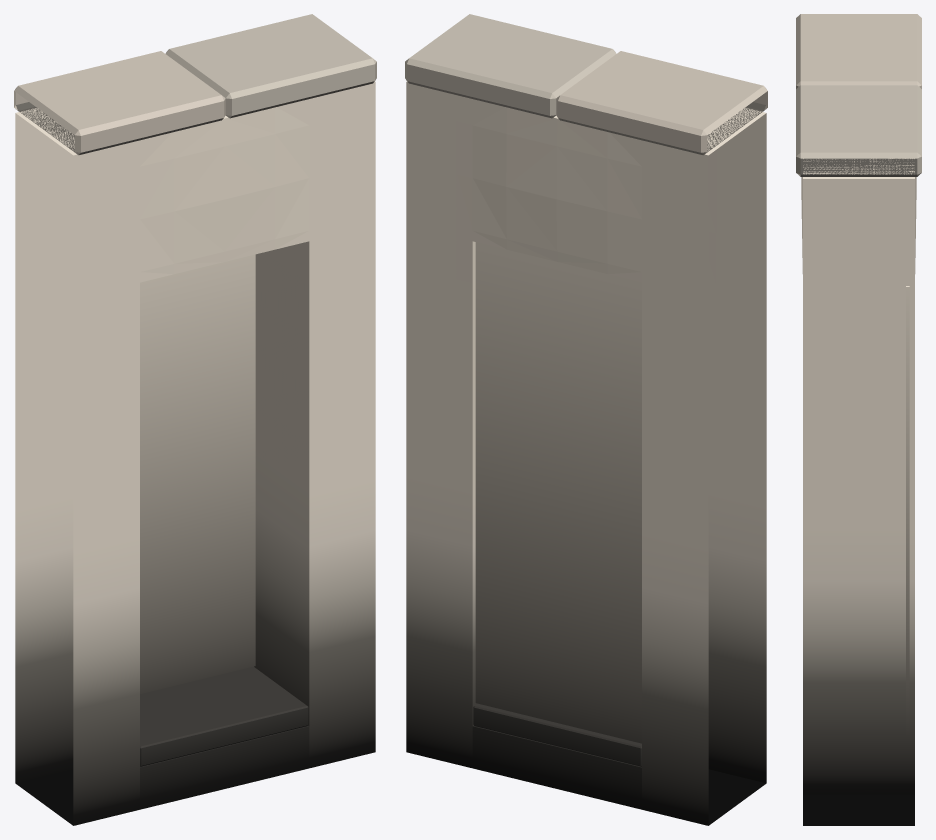
The model's file is SM_VKI_Wall_Dungeon_Secret_150_Full.fbx.
3 views of the same model, side by side, from view 1: azimuth 30°, elevation 25°; view 2: azimuth 150°, elevation 25°; view 3: azimuth 270°, elevation 25° (orthographic). The views are drawn at different scales.
Visible parts, largest first — view 1: SM_VKI_Wall_Dungeon_Secret_150_Full.001; view 2: SM_VKI_Wall_Dungeon_Secret_150_Full.001; view 3: SM_VKI_Wall_Dungeon_Secret_150_Full.001.
Boxes of the visible parts, left/top/right/bottom form: SM_VKI_Wall_Dungeon_Secret_150_Full.001: left=14, top=14, right=376, bottom=825; SM_VKI_Wall_Dungeon_Secret_150_Full.001: left=405, top=14, right=767, bottom=825; SM_VKI_Wall_Dungeon_Secret_150_Full.001: left=796, top=14, right=921, bottom=825.
Size of the model in its own units: 1.5 by 3.3 by 0.56.
